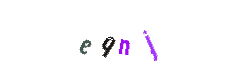E: (53, 0, 133, 80)
J: (98, 0, 178, 80)
N: (74, 0, 154, 80)
Q: (68, 0, 148, 80)
